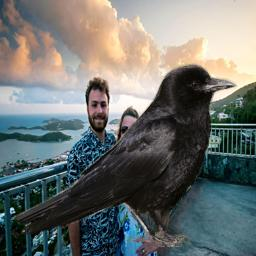Crow: (12, 63, 238, 247)
